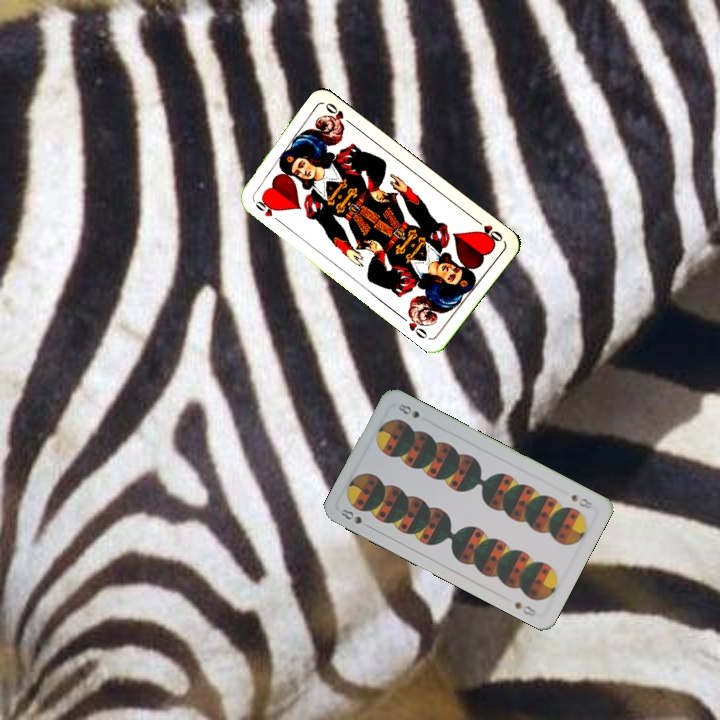HO: (471, 215, 506, 246), (249, 195, 279, 219)
S8: (336, 505, 374, 531), (567, 490, 596, 511)
